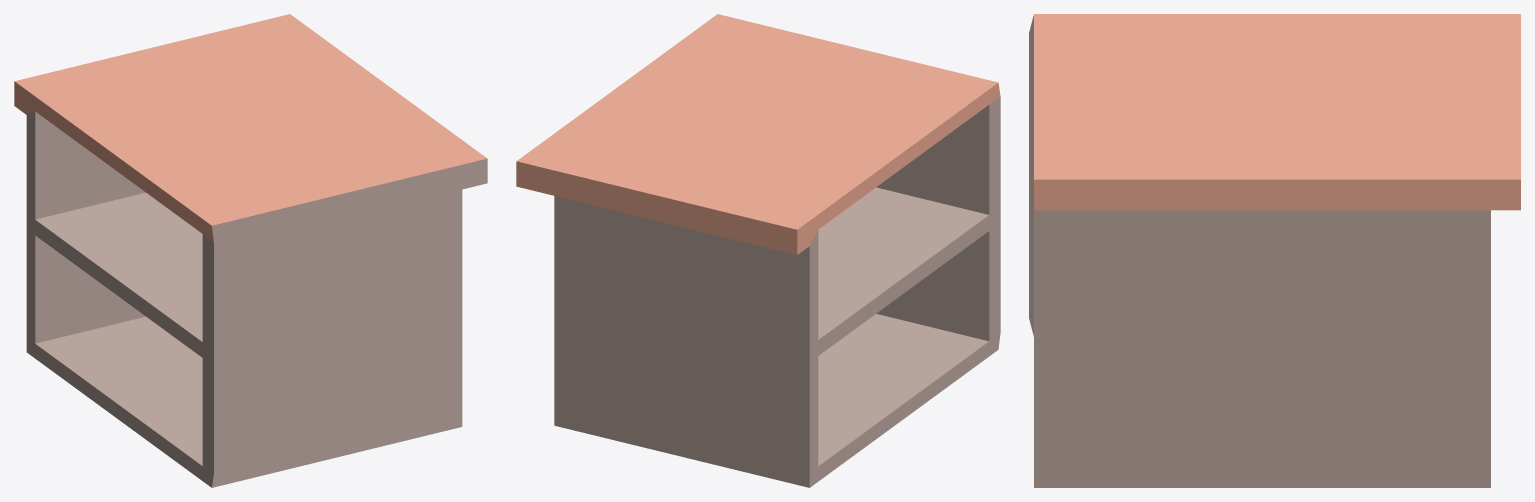
Rendered from edge left.fbx.
3 renders of one model, left to right at view 1: azimuth 30°, elevation 25°; view 2: azimuth 150°, elevation 25°; view 3: azimuth 270°, elevation 25°, orthographic. The views are drawn at different scales.
Visible parts, largest first — view 1: pCube3; view 2: pCube3; view 3: pCube3.
Part boxes in pixels (x1,y1,x2,y2): pCube3: (14,14,487,487); pCube3: (516,14,1000,487); pCube3: (1029,14,1520,487).
Bounding box in the file's own units: 7.76 × 7.05 × 9.72.
